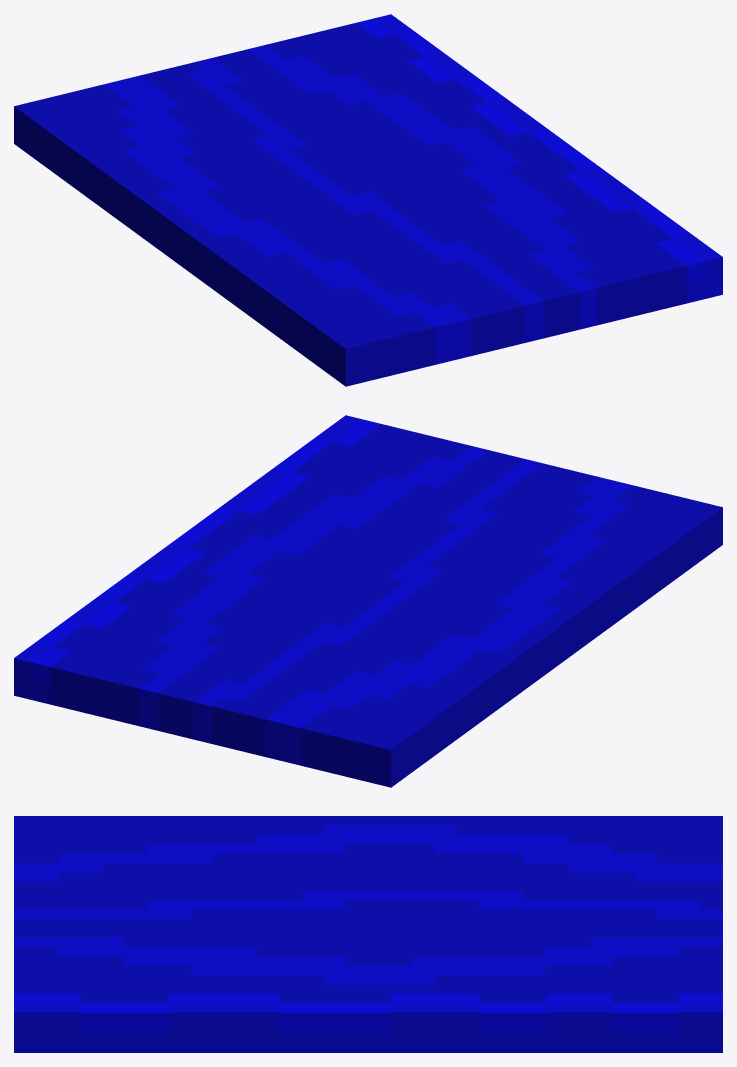
The model's file is WaterTransition.obj.
3 renders of one model, top to bottom at view 1: azimuth 30°, elevation 25°; view 2: azimuth 150°, elevation 25°; view 3: azimuth 270°, elevation 25°, orthographic. The views are drawn at different scales.
Size of the model in its own units: 2.1 by 0.2 by 3.2.
Materials: 1 (1 with a texture image).
